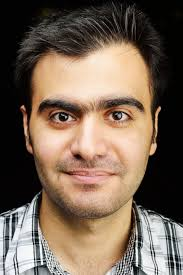middle_eastern_male: (22, 42, 155, 205)
